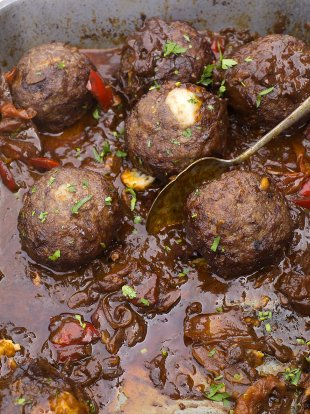meatballs: (18, 169, 122, 263), (189, 172, 288, 268), (122, 85, 227, 164), (118, 20, 215, 98), (222, 34, 307, 113), (16, 49, 92, 120)
